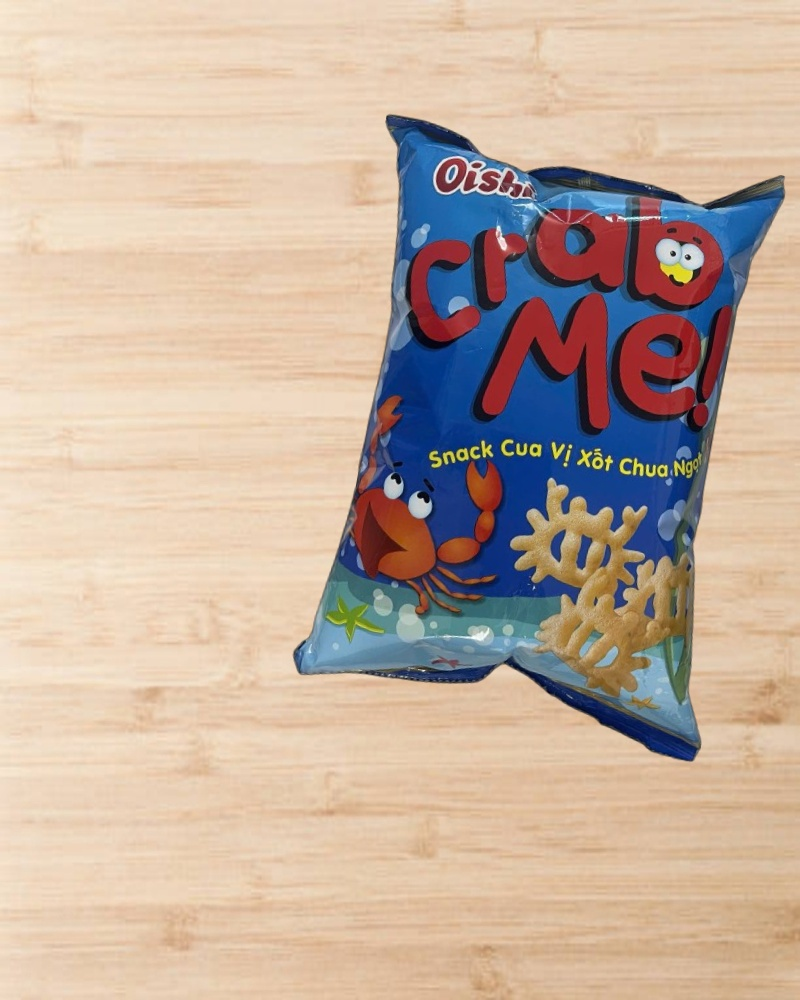Snack chay: (286, 107, 800, 765)
